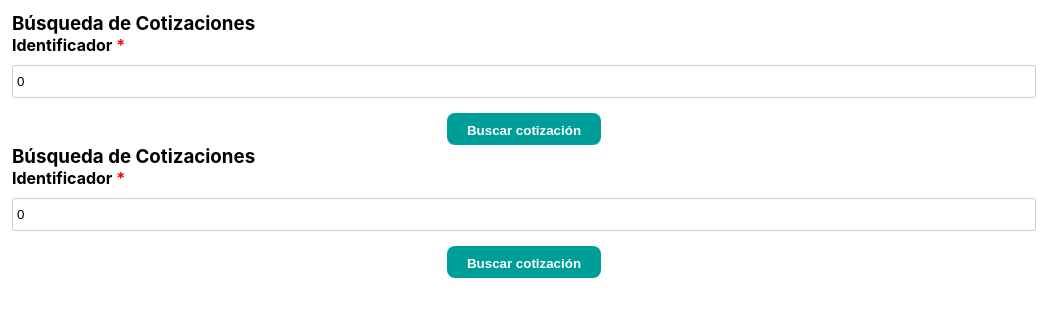
BuscarCotizacion test › Debería fallar al no tener el valor obligatorio presente
Click the submit button at (524, 129), box [447,113,601,145]
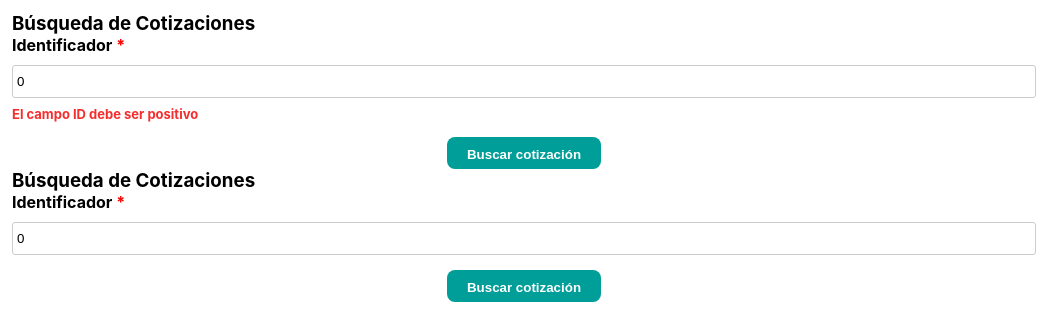
Expected: the text "El campo ID debe ser positivo" is shown, [12,106,198,122]
